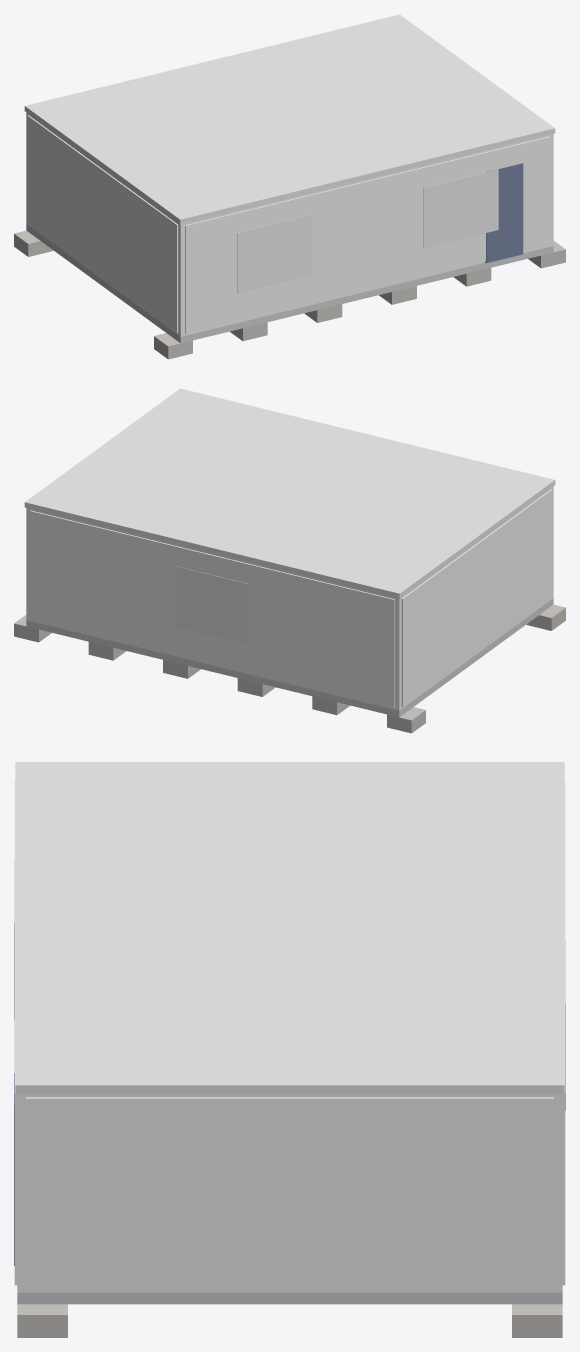
File: Studio-30-Premium-LOD0.glb
3 renders of one model, top to bottom at view 1: azimuth 30°, elevation 25°; view 2: azimuth 150°, elevation 25°; view 3: azimuth 270°, elevation 25°, orthographic. The views are drawn at different scales.
Visible parts, largest first — view 1: RoofMain, ExteriorPanelsPremium, WindowsLargeUpgrade, BaseFrame, FoundationBlocks, ExteriorShell, EntryDoor; view 2: RoofMain, ExteriorPanelsPremium, WindowsLargeUpgrade, BaseFrame, FoundationBlocks, ExteriorShell; view 3: RoofMain, ExteriorPanelsPremium, ExteriorShell, BaseFrame, FoundationBlocks.
Part boxes in pixels (box(x1,y1,x2,y2)): RoofMain: box(24, 14, 555, 224); ExteriorPanelsPremium: box(27, 115, 550, 334); WindowsLargeUpgrade: box(237, 169, 498, 293); BaseFrame: box(26, 224, 553, 343); FoundationBlocks: box(14, 230, 565, 359); ExteriorShell: box(26, 112, 553, 336); EntryDoor: box(485, 163, 523, 263); RoofMain: box(24, 388, 555, 598); ExteriorPanelsPremium: box(30, 489, 552, 708); WindowsLargeUpgrade: box(174, 566, 249, 644); BaseFrame: box(26, 598, 553, 717); FoundationBlocks: box(14, 604, 565, 733); ExteriorShell: box(26, 486, 553, 710); RoofMain: box(15, 762, 564, 1094); ExteriorPanelsPremium: box(14, 779, 565, 1289); ExteriorShell: box(17, 1094, 562, 1292); BaseFrame: box(17, 1292, 562, 1304); FoundationBlocks: box(17, 1304, 562, 1337).
Size of the model in its own units: 9.6 by 3.17 by 6.53.
